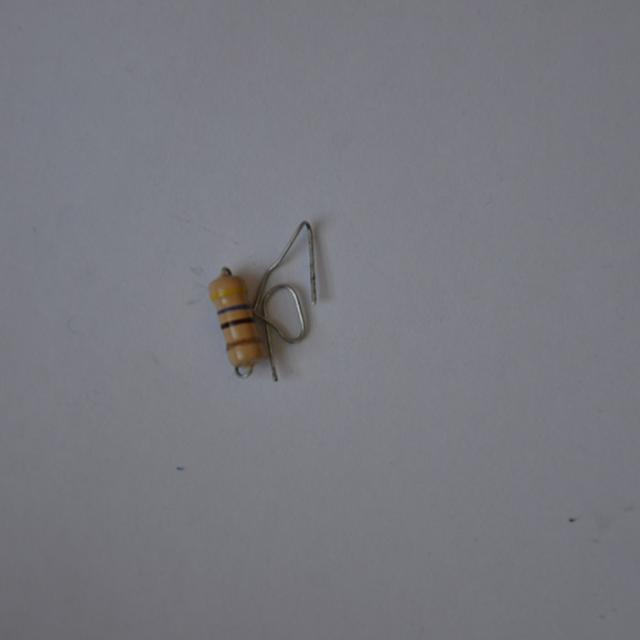brown: (220, 316, 252, 327)
gold: (226, 337, 257, 347)
resistor: (210, 270, 268, 372)
violet: (219, 303, 248, 313)
yellow: (212, 287, 243, 296)
